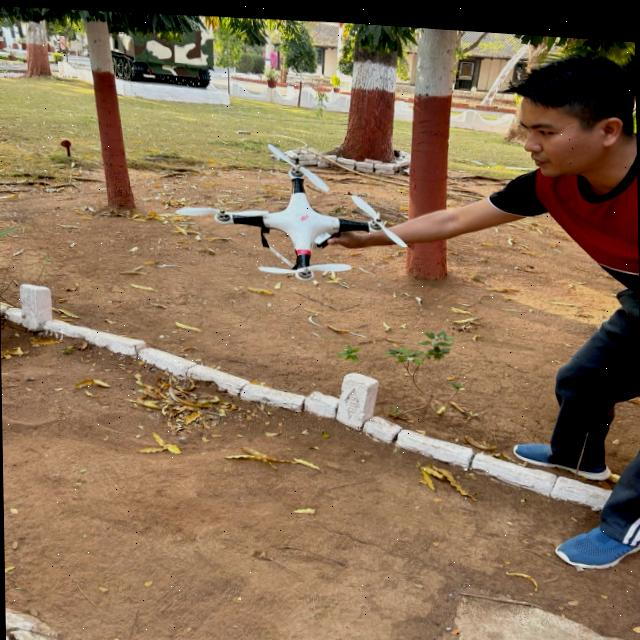drone: (160, 115, 442, 307)
